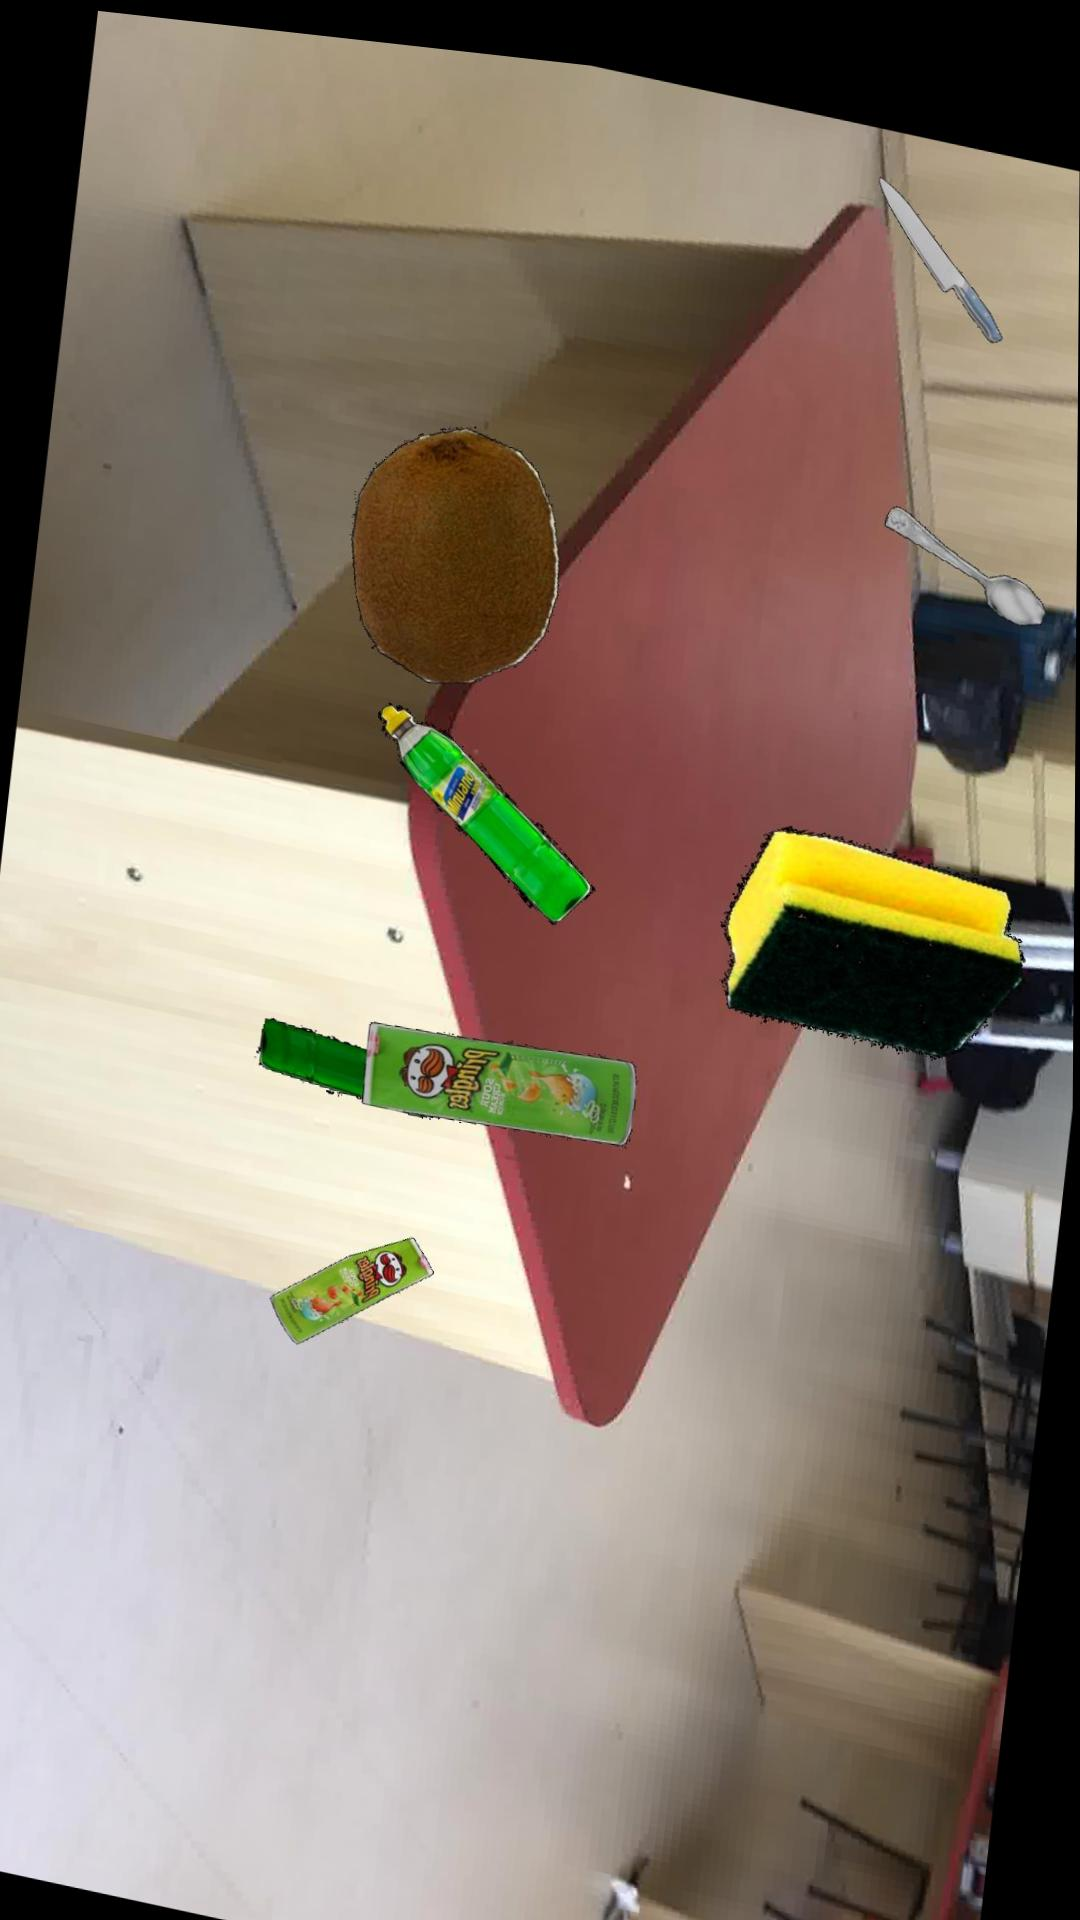cleaner: (377, 695, 595, 914), (258, 1013, 433, 1110)
kiwi: (351, 418, 559, 674)
knife: (877, 157, 1001, 320)
pringles: (361, 1014, 637, 1133), (270, 1229, 434, 1338)
sponge: (724, 808, 1026, 1038)
spoon: (884, 487, 1044, 604)
